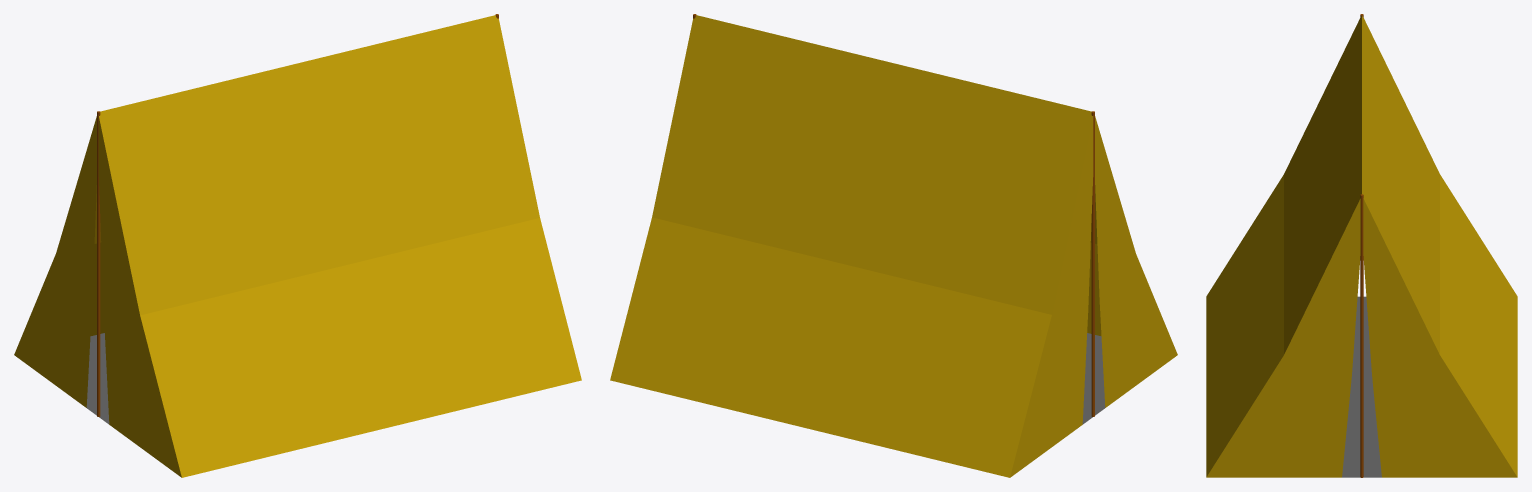
The model's file is Tent.fbx.
3 renders of one model, left to right at view 1: azimuth 30°, elevation 25°; view 2: azimuth 150°, elevation 25°; view 3: azimuth 270°, elevation 25°, orthographic. The views are drawn at different scales.
Parts seen in each view (by area): view 1: Cube.001, Cylinder.001; view 2: Cube.001, Cylinder.001; view 3: Cube.001, Cylinder.
Boxes of the visible parts, x1,y1,x2,y2 form: Cube.001: [14, 15, 581, 477]; Cylinder.001: [97, 111, 100, 416]; Cube.001: [610, 15, 1177, 477]; Cylinder.001: [1091, 111, 1094, 416]; Cube.001: [1206, 16, 1517, 477]; Cylinder: [1360, 194, 1363, 477].
Bounding box in the file's own units: 552 × 400 × 400.
